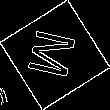M_E: (26, 27, 84, 83)
